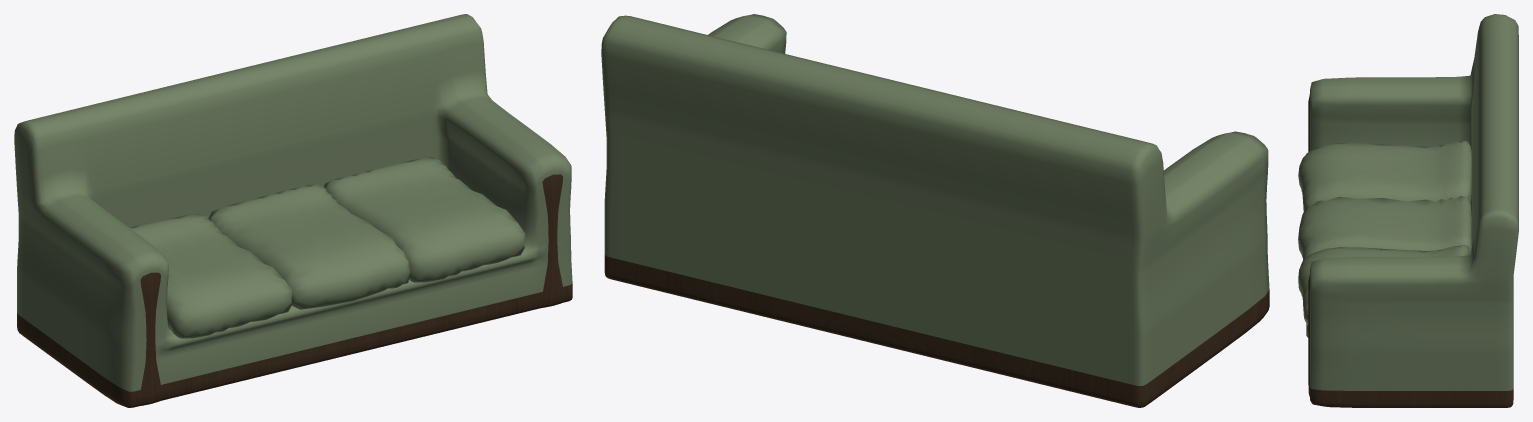
Rendered from couch.glb.
3 views of the same model, side by side, from view 1: azimuth 30°, elevation 25°; view 2: azimuth 150°, elevation 25°; view 3: azimuth 270°, elevation 25° (orthographic). The views are drawn at different scales.
Visible parts, largest first — view 1: Couch; view 2: Couch; view 3: Couch.
Part boxes in pixels (left/top/right/bottom): Couch: left=14, top=14, right=572, bottom=407; Couch: left=601, top=14, right=1269, bottom=407; Couch: left=1298, top=14, right=1518, bottom=407.
Bounding box in the file's own units: 2.82 × 1.28 × 1.3.
Materials: 2 (1 with a texture image).
